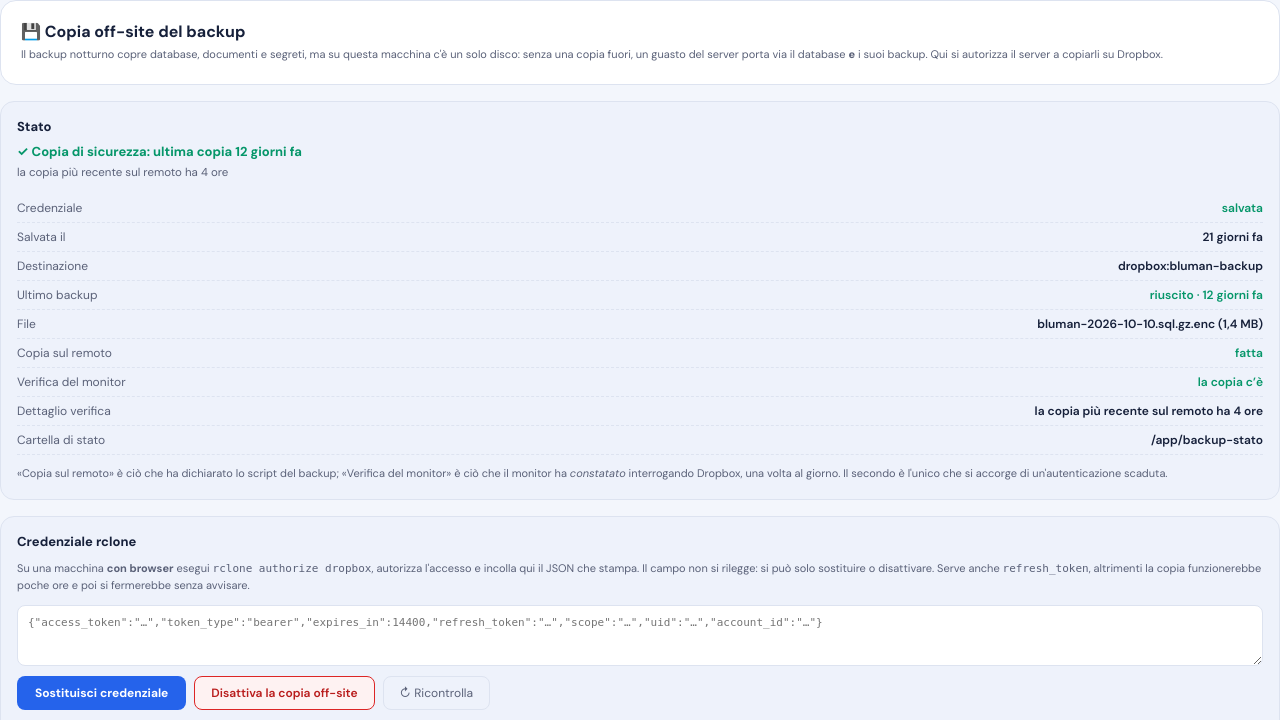
Test: PannelloBackupOffSite — disattivare › chiede conferma, spiegando cosa si perde, e solo allora chiama l’API
Click the button "Disattiva la copia off-site": [284, 693] box [194, 676, 375, 710]
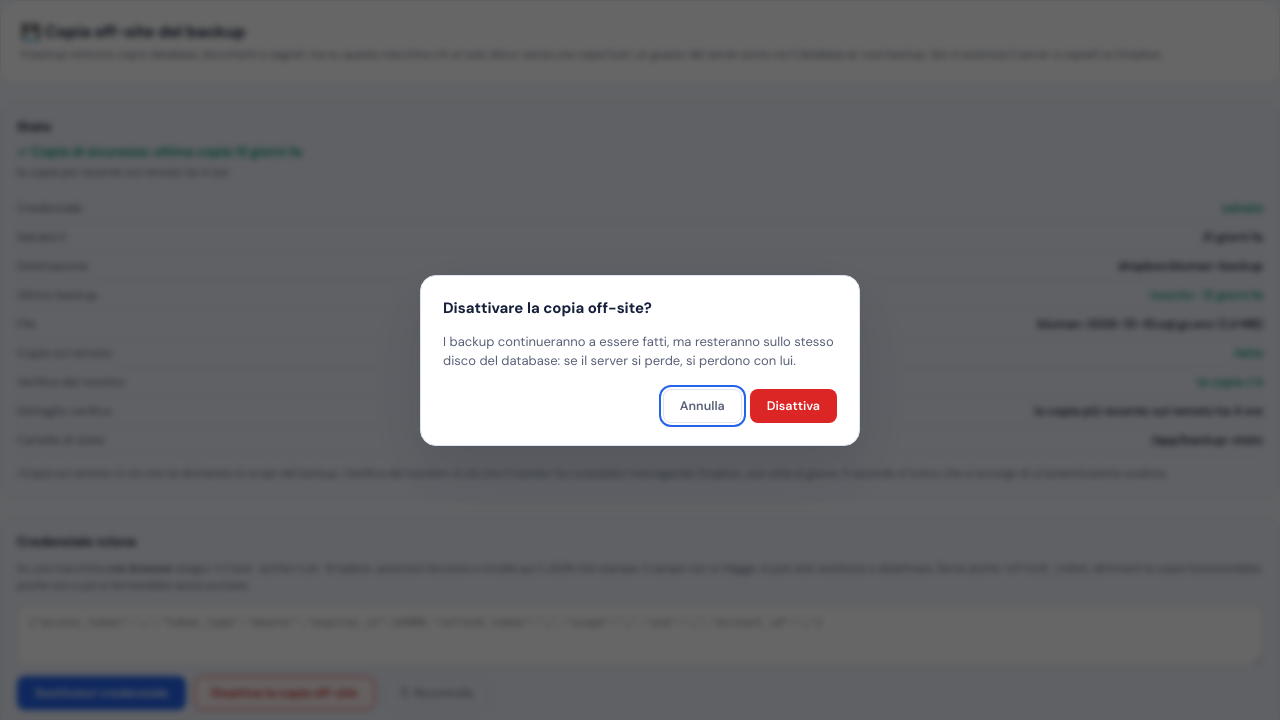
Check: the text "I backup continueranno a essere fatti" is shown, box [443, 332, 834, 369]
Click the button "Disattiva": [793, 406] box [750, 388, 837, 422]
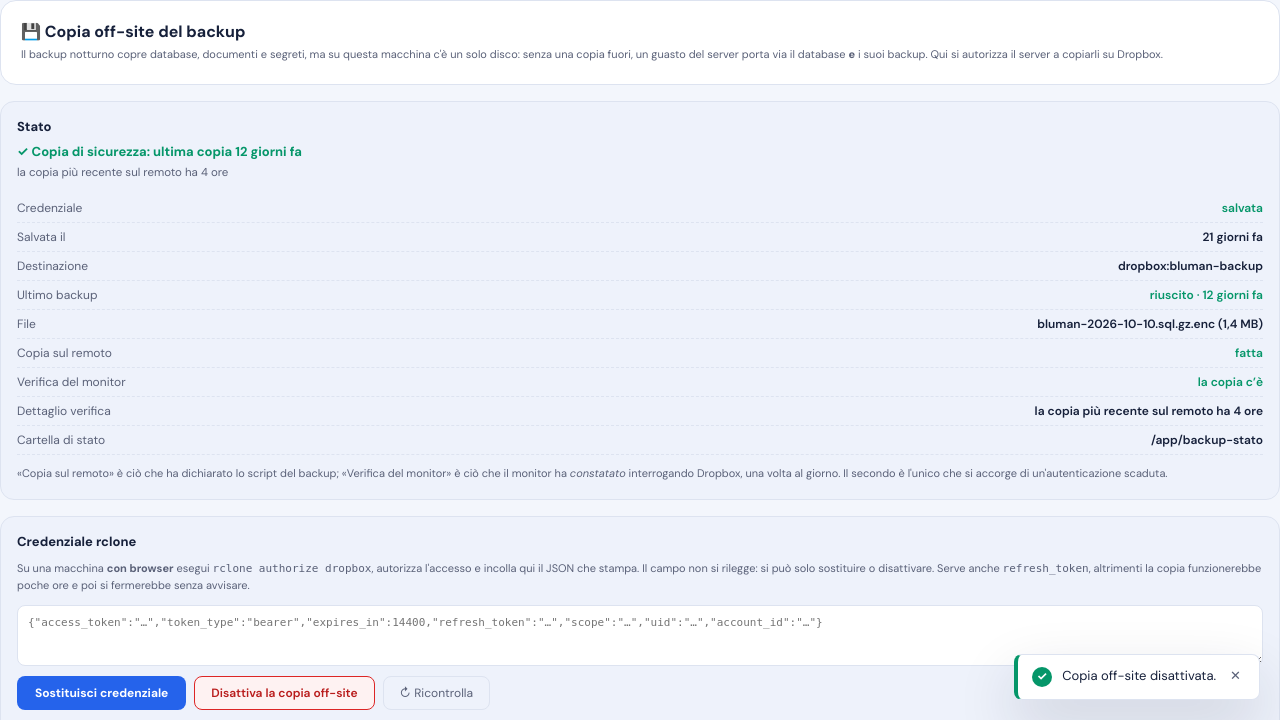
Check: the text "Copia off-site disattivata." is shown, box [1062, 667, 1216, 686]
